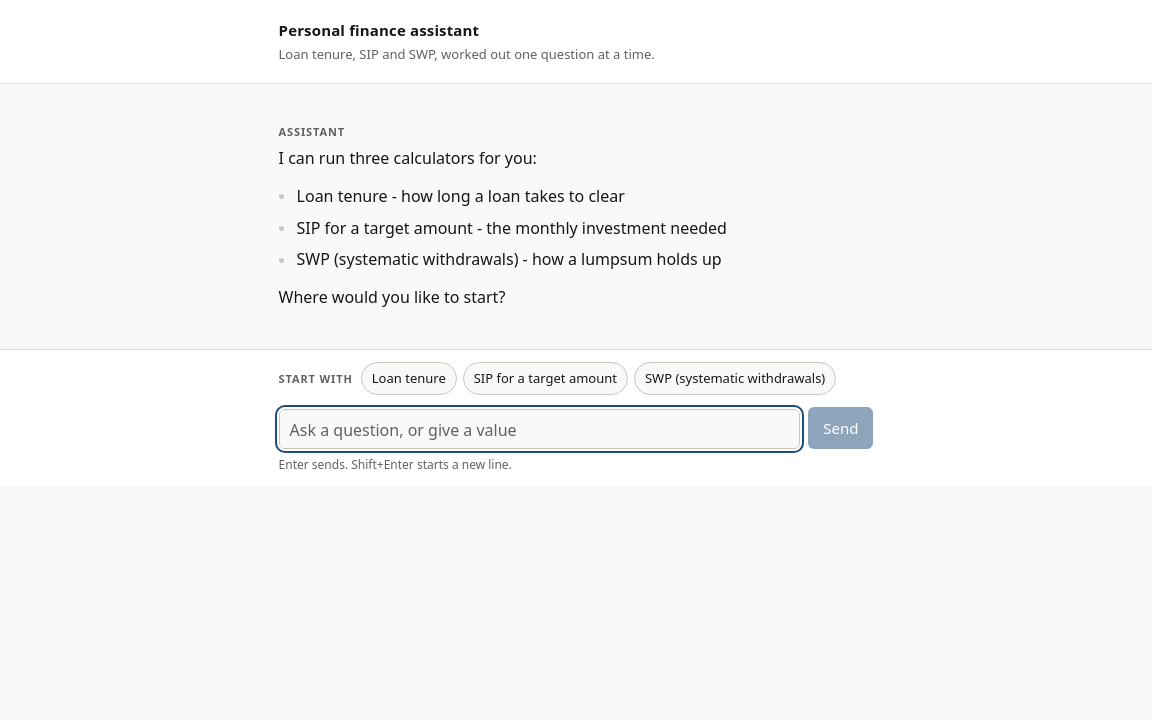
Test: App › sends on Enter and clears the field
Check: the text "Where would you like to start?" is shown, box left=279, top=286, right=505, bottom=308
In the text box named "Your message": x=539, y=429 left=279, top=409, right=800, bottom=449, type "loan tenure"
Then press Enter
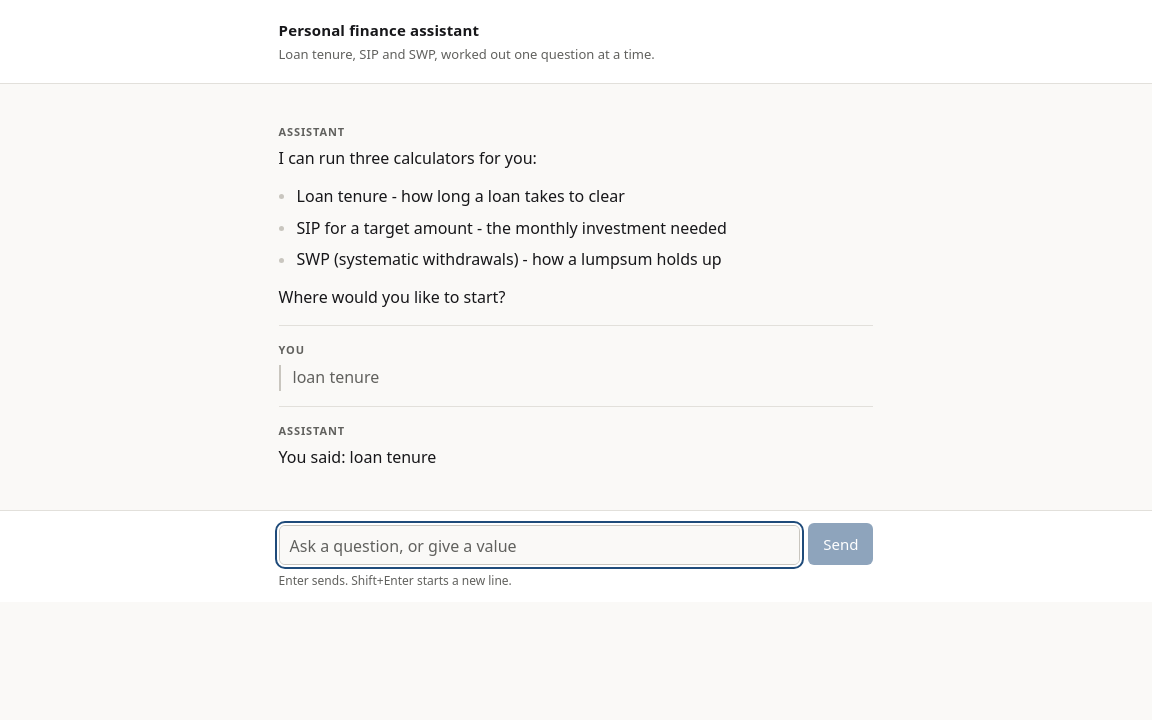
Check: the text box named "Your message" is empty, box left=279, top=525, right=800, bottom=565
Check: the text "You said: loan tenure" is shown, box left=279, top=446, right=436, bottom=468
